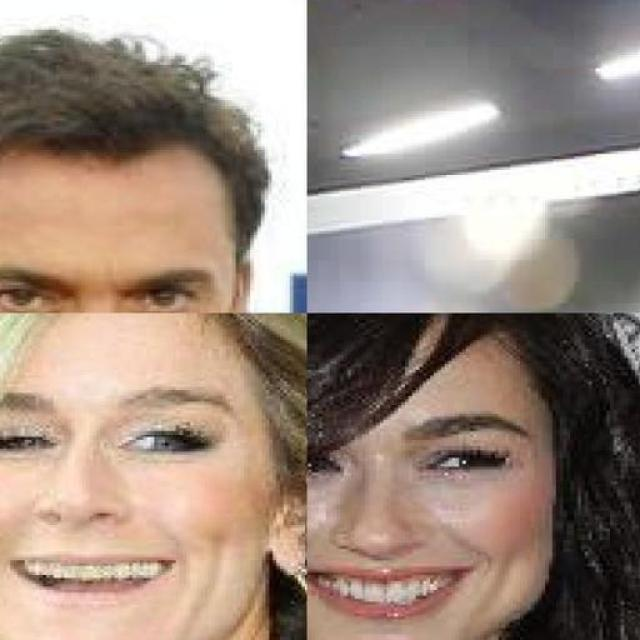bareface: (0, 321, 310, 640)
